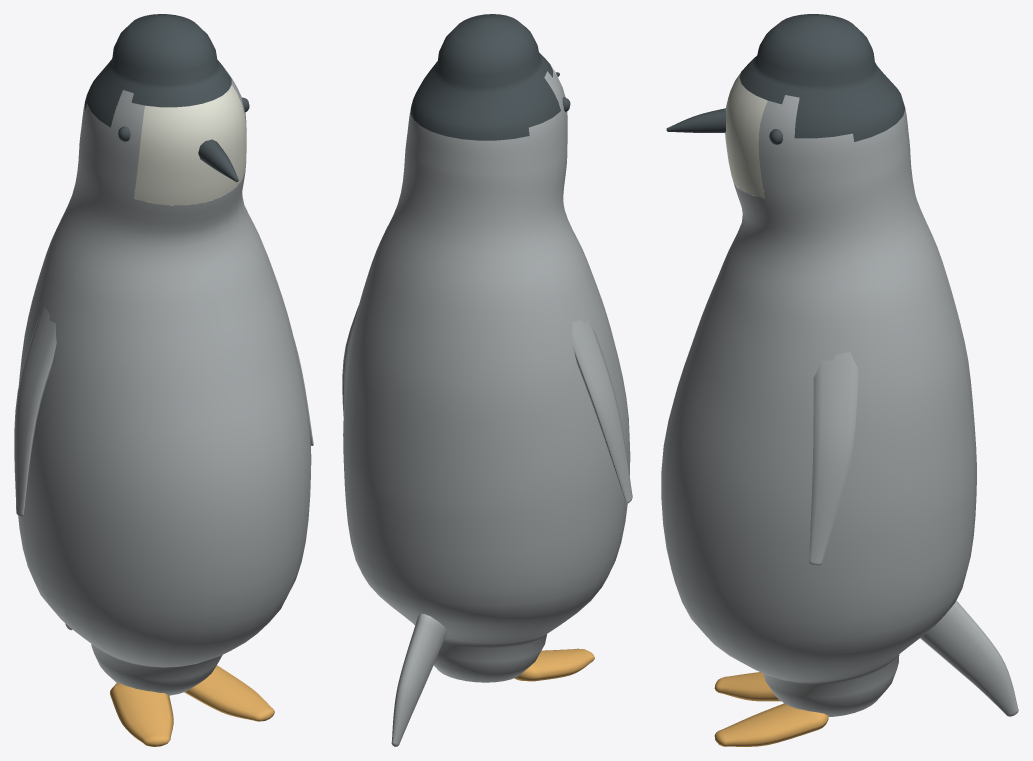
File: ocean-giants-kit-emperor-chick-acf0e03d__39349.glb
The picture shows the model from 3 angles, left to right: view 1: azimuth 30°, elevation 25°; view 2: azimuth 150°, elevation 25°; view 3: azimuth 270°, elevation 25°; orthographic projection. The views are drawn at different scales.
Parts seen in each view (by area): view 1: emperor-chick; view 2: emperor-chick; view 3: emperor-chick.
Boxes of the visible parts, x1,y1,x2,y2 form: emperor-chick: (14,14,313,746); emperor-chick: (342,14,632,746); emperor-chick: (661,14,1018,746).
Size of the model in its own units: 0.2024 by 0.45 by 0.2078.
